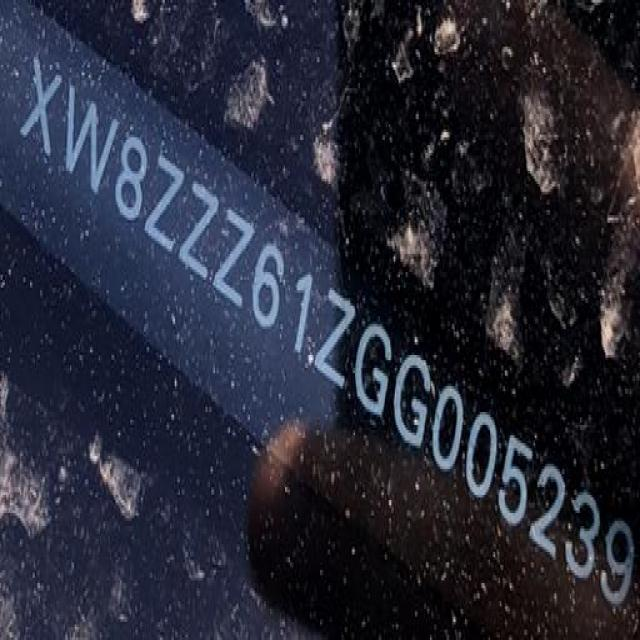0: (459, 399, 506, 512), (426, 373, 470, 480)
1: (282, 261, 323, 369)
2: (526, 454, 573, 563)
3: (559, 483, 609, 591)
5: (493, 429, 537, 537)
6: (245, 229, 294, 341)
8: (110, 124, 155, 233)
9: (593, 509, 640, 616)
G: (386, 345, 438, 464), (349, 312, 399, 428)
W: (51, 79, 122, 209)
X: (16, 52, 64, 161)
Z: (309, 281, 360, 394), (139, 149, 188, 261), (209, 201, 258, 313), (176, 177, 222, 290)
